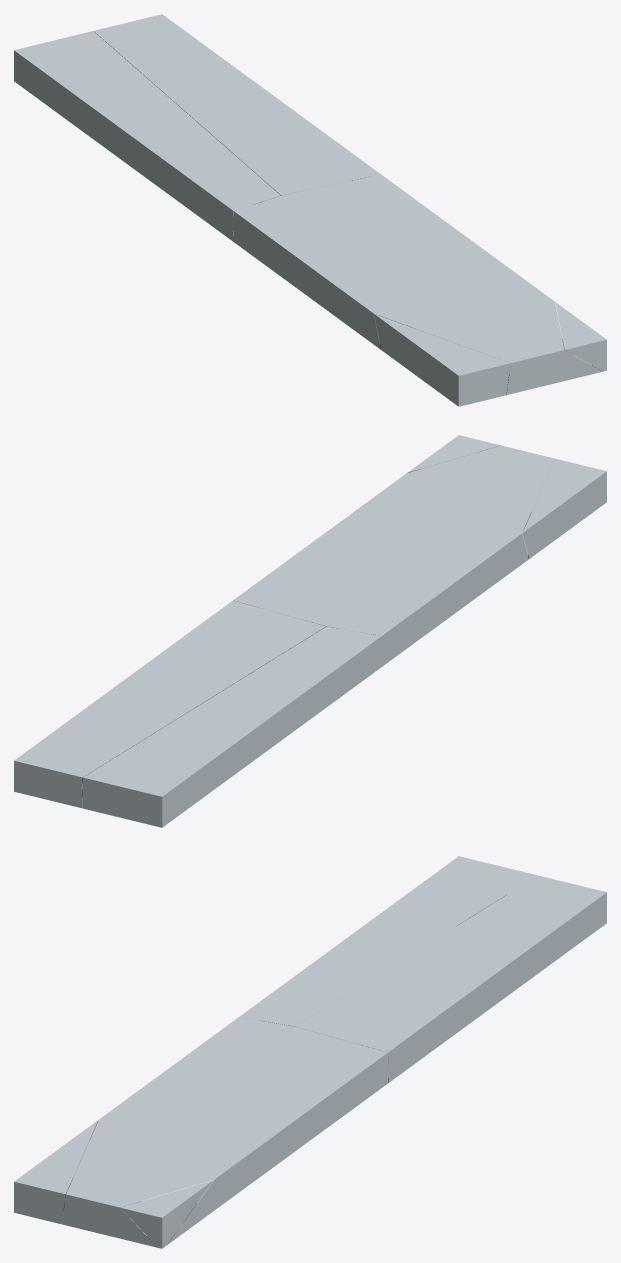
The model's file is Hanger_DEST.fbx.
3 views of the same model, one above another, from view 1: azimuth 30°, elevation 25°; view 2: azimuth 150°, elevation 25°; view 3: azimuth 330°, elevation 25° (orthographic).
Visible parts, largest first — view 1: model:mesh1245666865_cell, model:mesh1245666865_cell.001, model:mesh1245666865_cell.003, model:mesh1245666865_cell.002, model:mesh1245666865_cell.004; view 2: model:mesh1245666865_cell, model:mesh1245666865_cell.001, model:mesh1245666865_cell.003, model:mesh1245666865_cell.002, model:mesh1245666865_cell.004; view 3: model:mesh1245666865_cell, model:mesh1245666865_cell.003, model:mesh1245666865_cell.001, model:mesh1245666865_cell.002, model:mesh1245666865_cell.004.
Part boxes in pixels (x1,y1,x2,y2): model:mesh1245666865_cell: (233,174,602,395); model:mesh1245666865_cell.001: (14,31,280,241); model:mesh1245666865_cell.003: (94,14,380,195); model:mesh1245666865_cell.002: (374,314,510,406); model:mesh1245666865_cell.004: (555,302,606,371); model:mesh1245666865_cell: (233,445,554,666); model:mesh1245666865_cell.001: (83,626,381,827); model:mesh1245666865_cell.003: (14,600,325,808); model:mesh1245666865_cell.002: (522,458,606,558); model:mesh1245666865_cell.004: (407,435,500,472); model:mesh1245666865_cell: (62,1017,388,1247); model:mesh1245666865_cell.003: (295,875,606,1082); model:mesh1245666865_cell.001: (239,856,537,1026); model:mesh1245666865_cell.002: (14,1120,98,1224); model:mesh1245666865_cell.004: (120,1180,213,1248).
Size of the model in its own units: 1.27 by 0.254 by 6.6.
